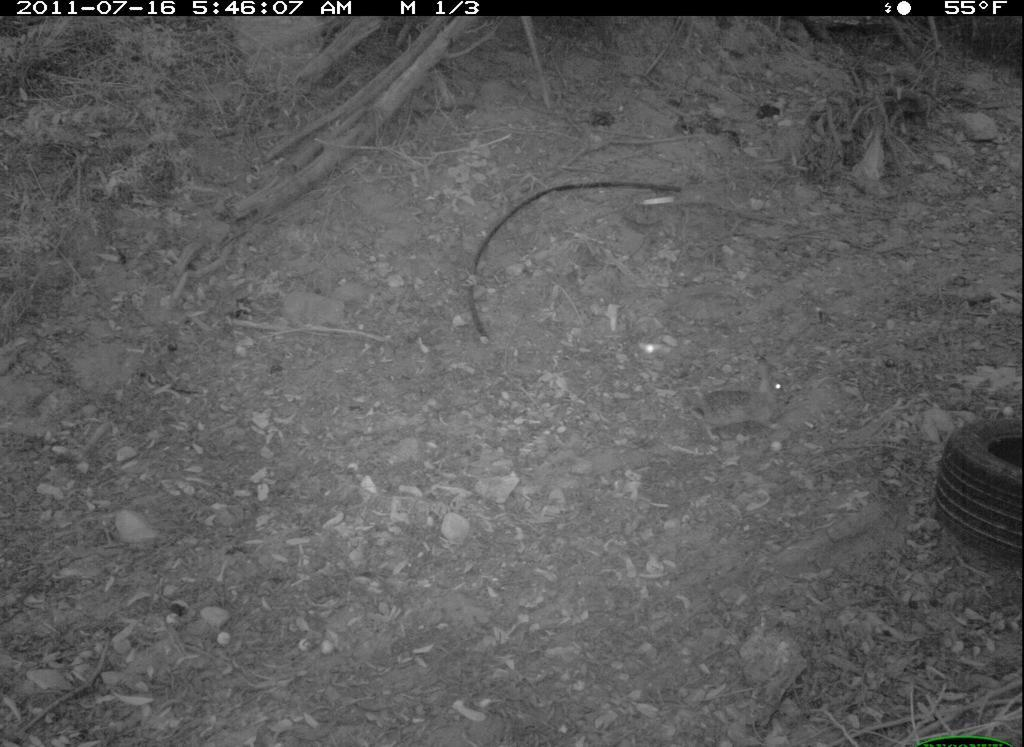rabbit: (694, 350, 802, 442)
